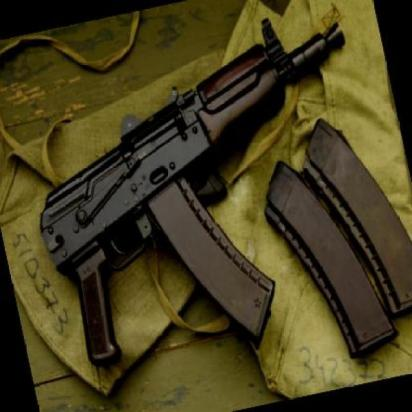Gun: (4, 17, 408, 386)
